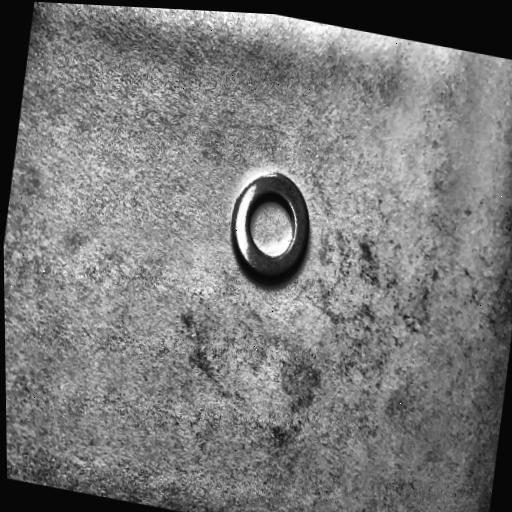Washer: (229, 172, 311, 283)
